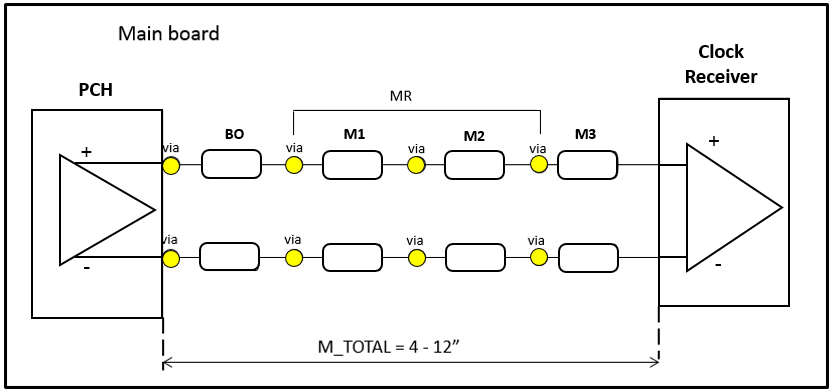circle: (404, 155, 432, 178), (281, 245, 306, 269), (404, 246, 431, 266), (160, 247, 183, 270), (282, 155, 306, 177), (527, 153, 549, 174), (529, 245, 550, 267), (159, 157, 183, 175)
oval: (557, 237, 620, 278), (443, 237, 508, 275), (197, 147, 265, 183), (441, 147, 508, 183), (321, 147, 385, 183), (556, 148, 620, 183), (195, 241, 264, 273), (317, 240, 385, 272)
rectangle: (660, 95, 797, 319), (27, 104, 166, 320)
triangle: (676, 130, 789, 283), (49, 143, 161, 273)
